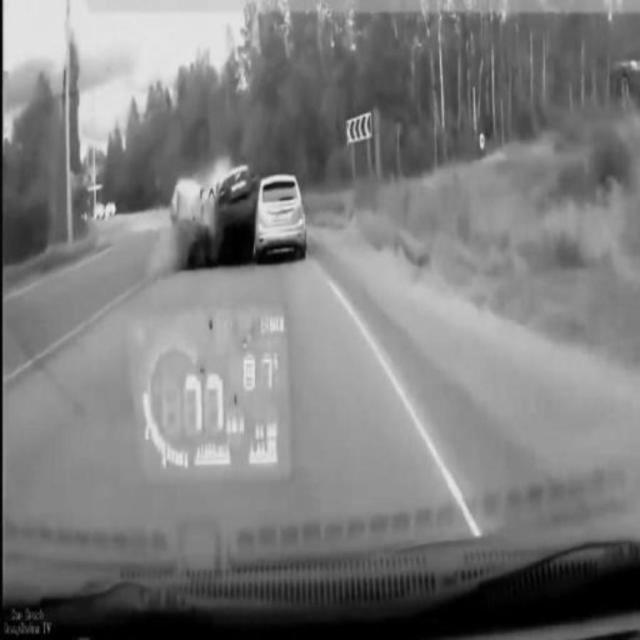accident: (175, 171, 309, 267)
